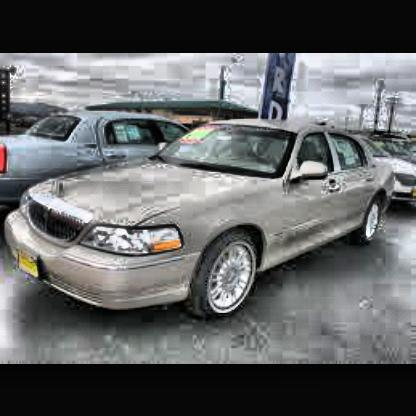Lincoln Town Car Sedan 2011: (3, 116, 406, 329)
